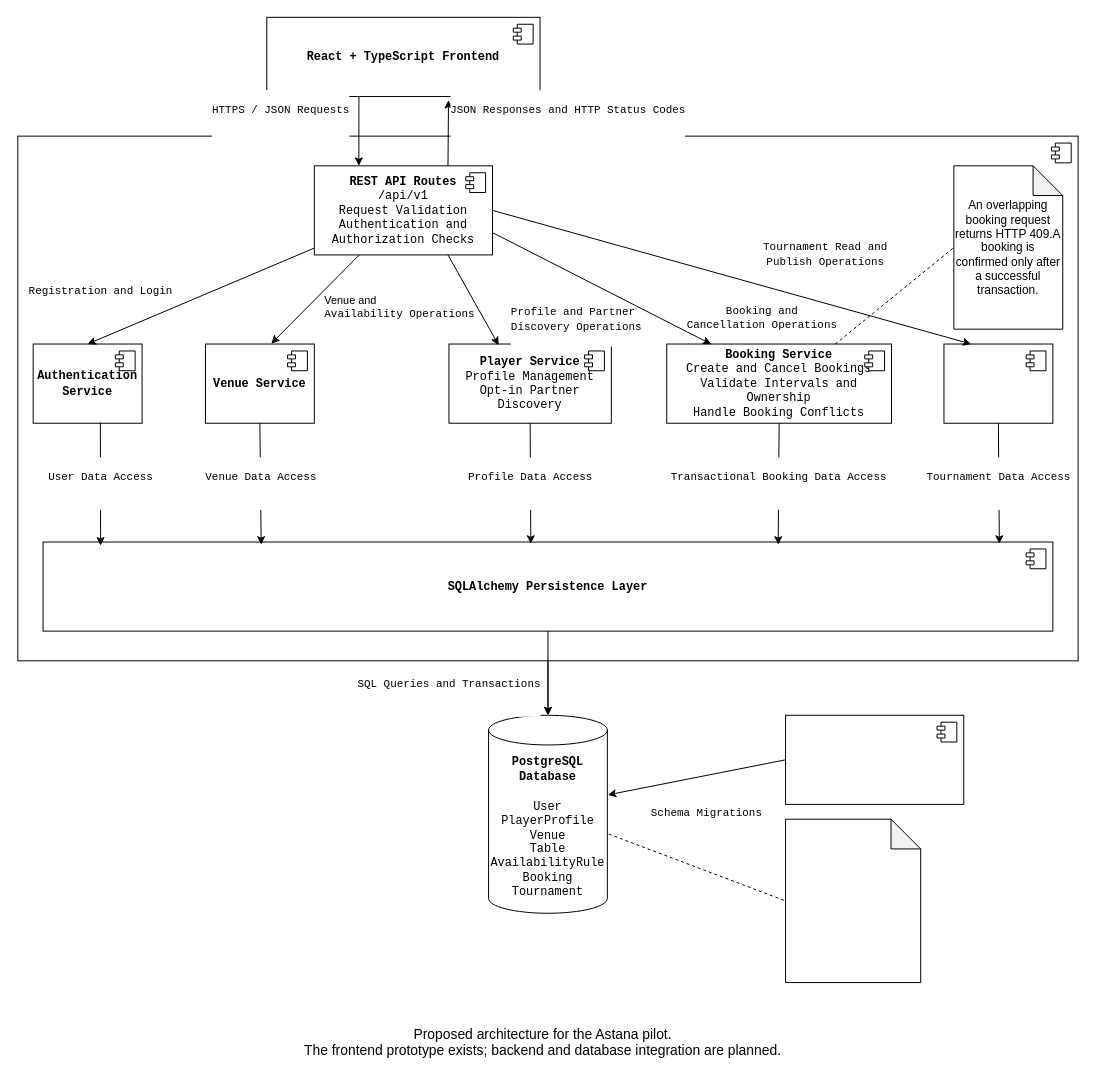
This 1095x1084 diagram has some shape labels left out. The shapes that lost their labels are listed below. From the top down, each one's box as (x1, y1, x2, y2) in pixels, then its label:
(17, 135, 1078, 661): FastAPI Backend
(943, 343, 1053, 423): Tournament Service
(785, 714, 964, 804): Alembic Migrations
(785, 818, 921, 983): Database Integrity Rule: No overlapping active bookings for the same table.
